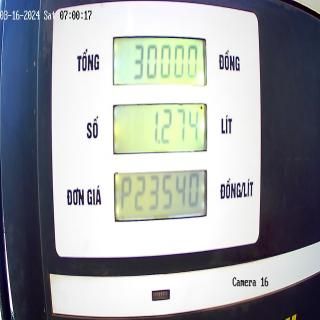screen: (112, 30, 209, 227)
